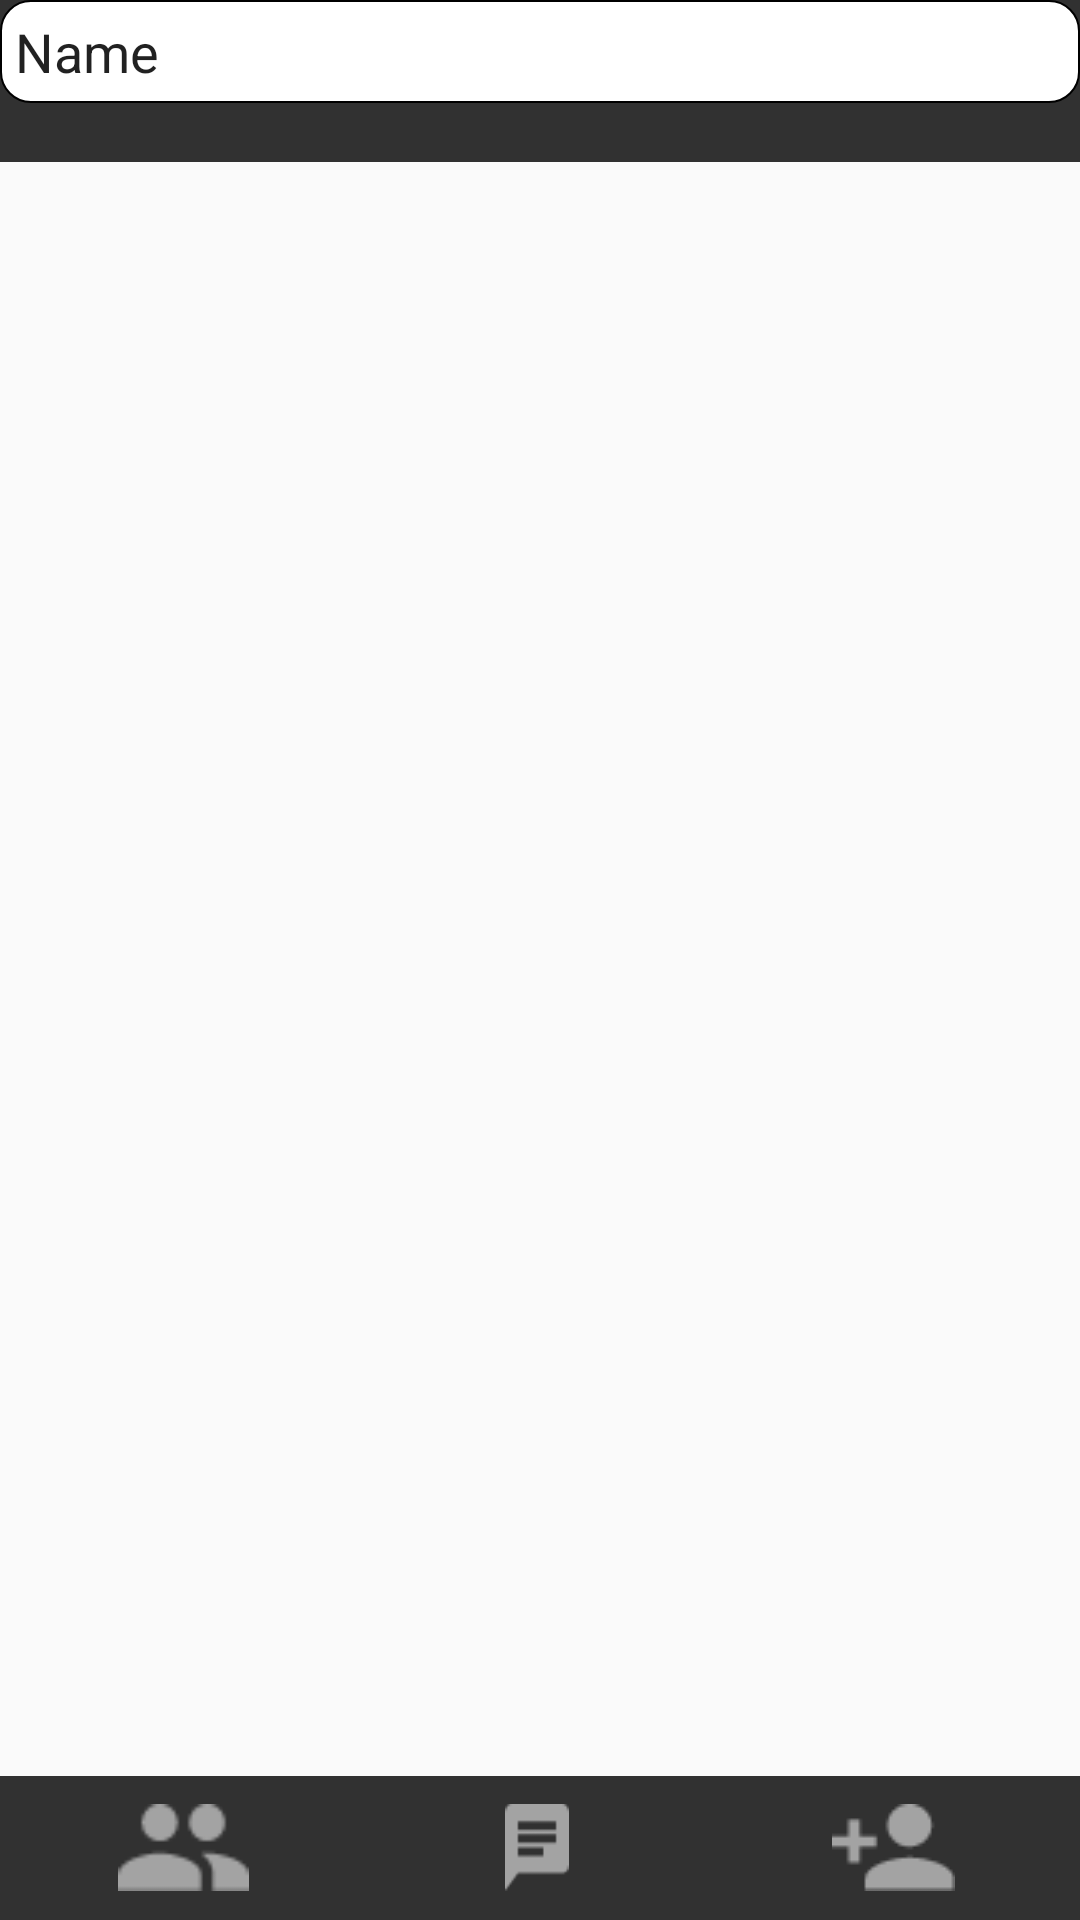

Screen size 1080 × 1920. Icon name, then its box in pixels as (x1, y1, x2, y2):
add friend: (832, 1804, 955, 1891)
chat: (505, 1804, 569, 1890)
friend list: (118, 1804, 249, 1891)
